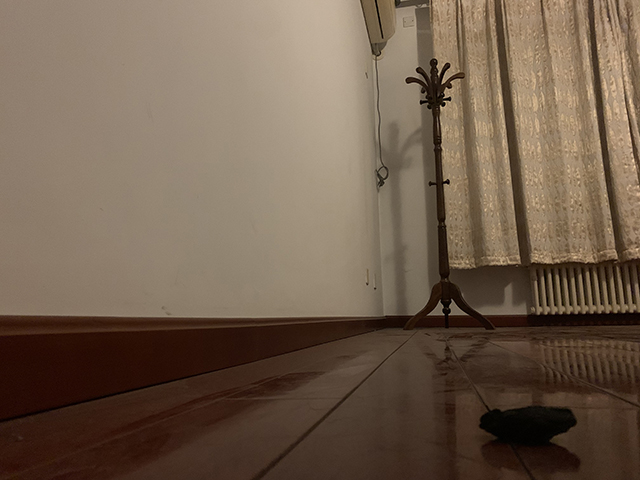curtain: (429, 1, 640, 265)
feces: (478, 405, 578, 444)
